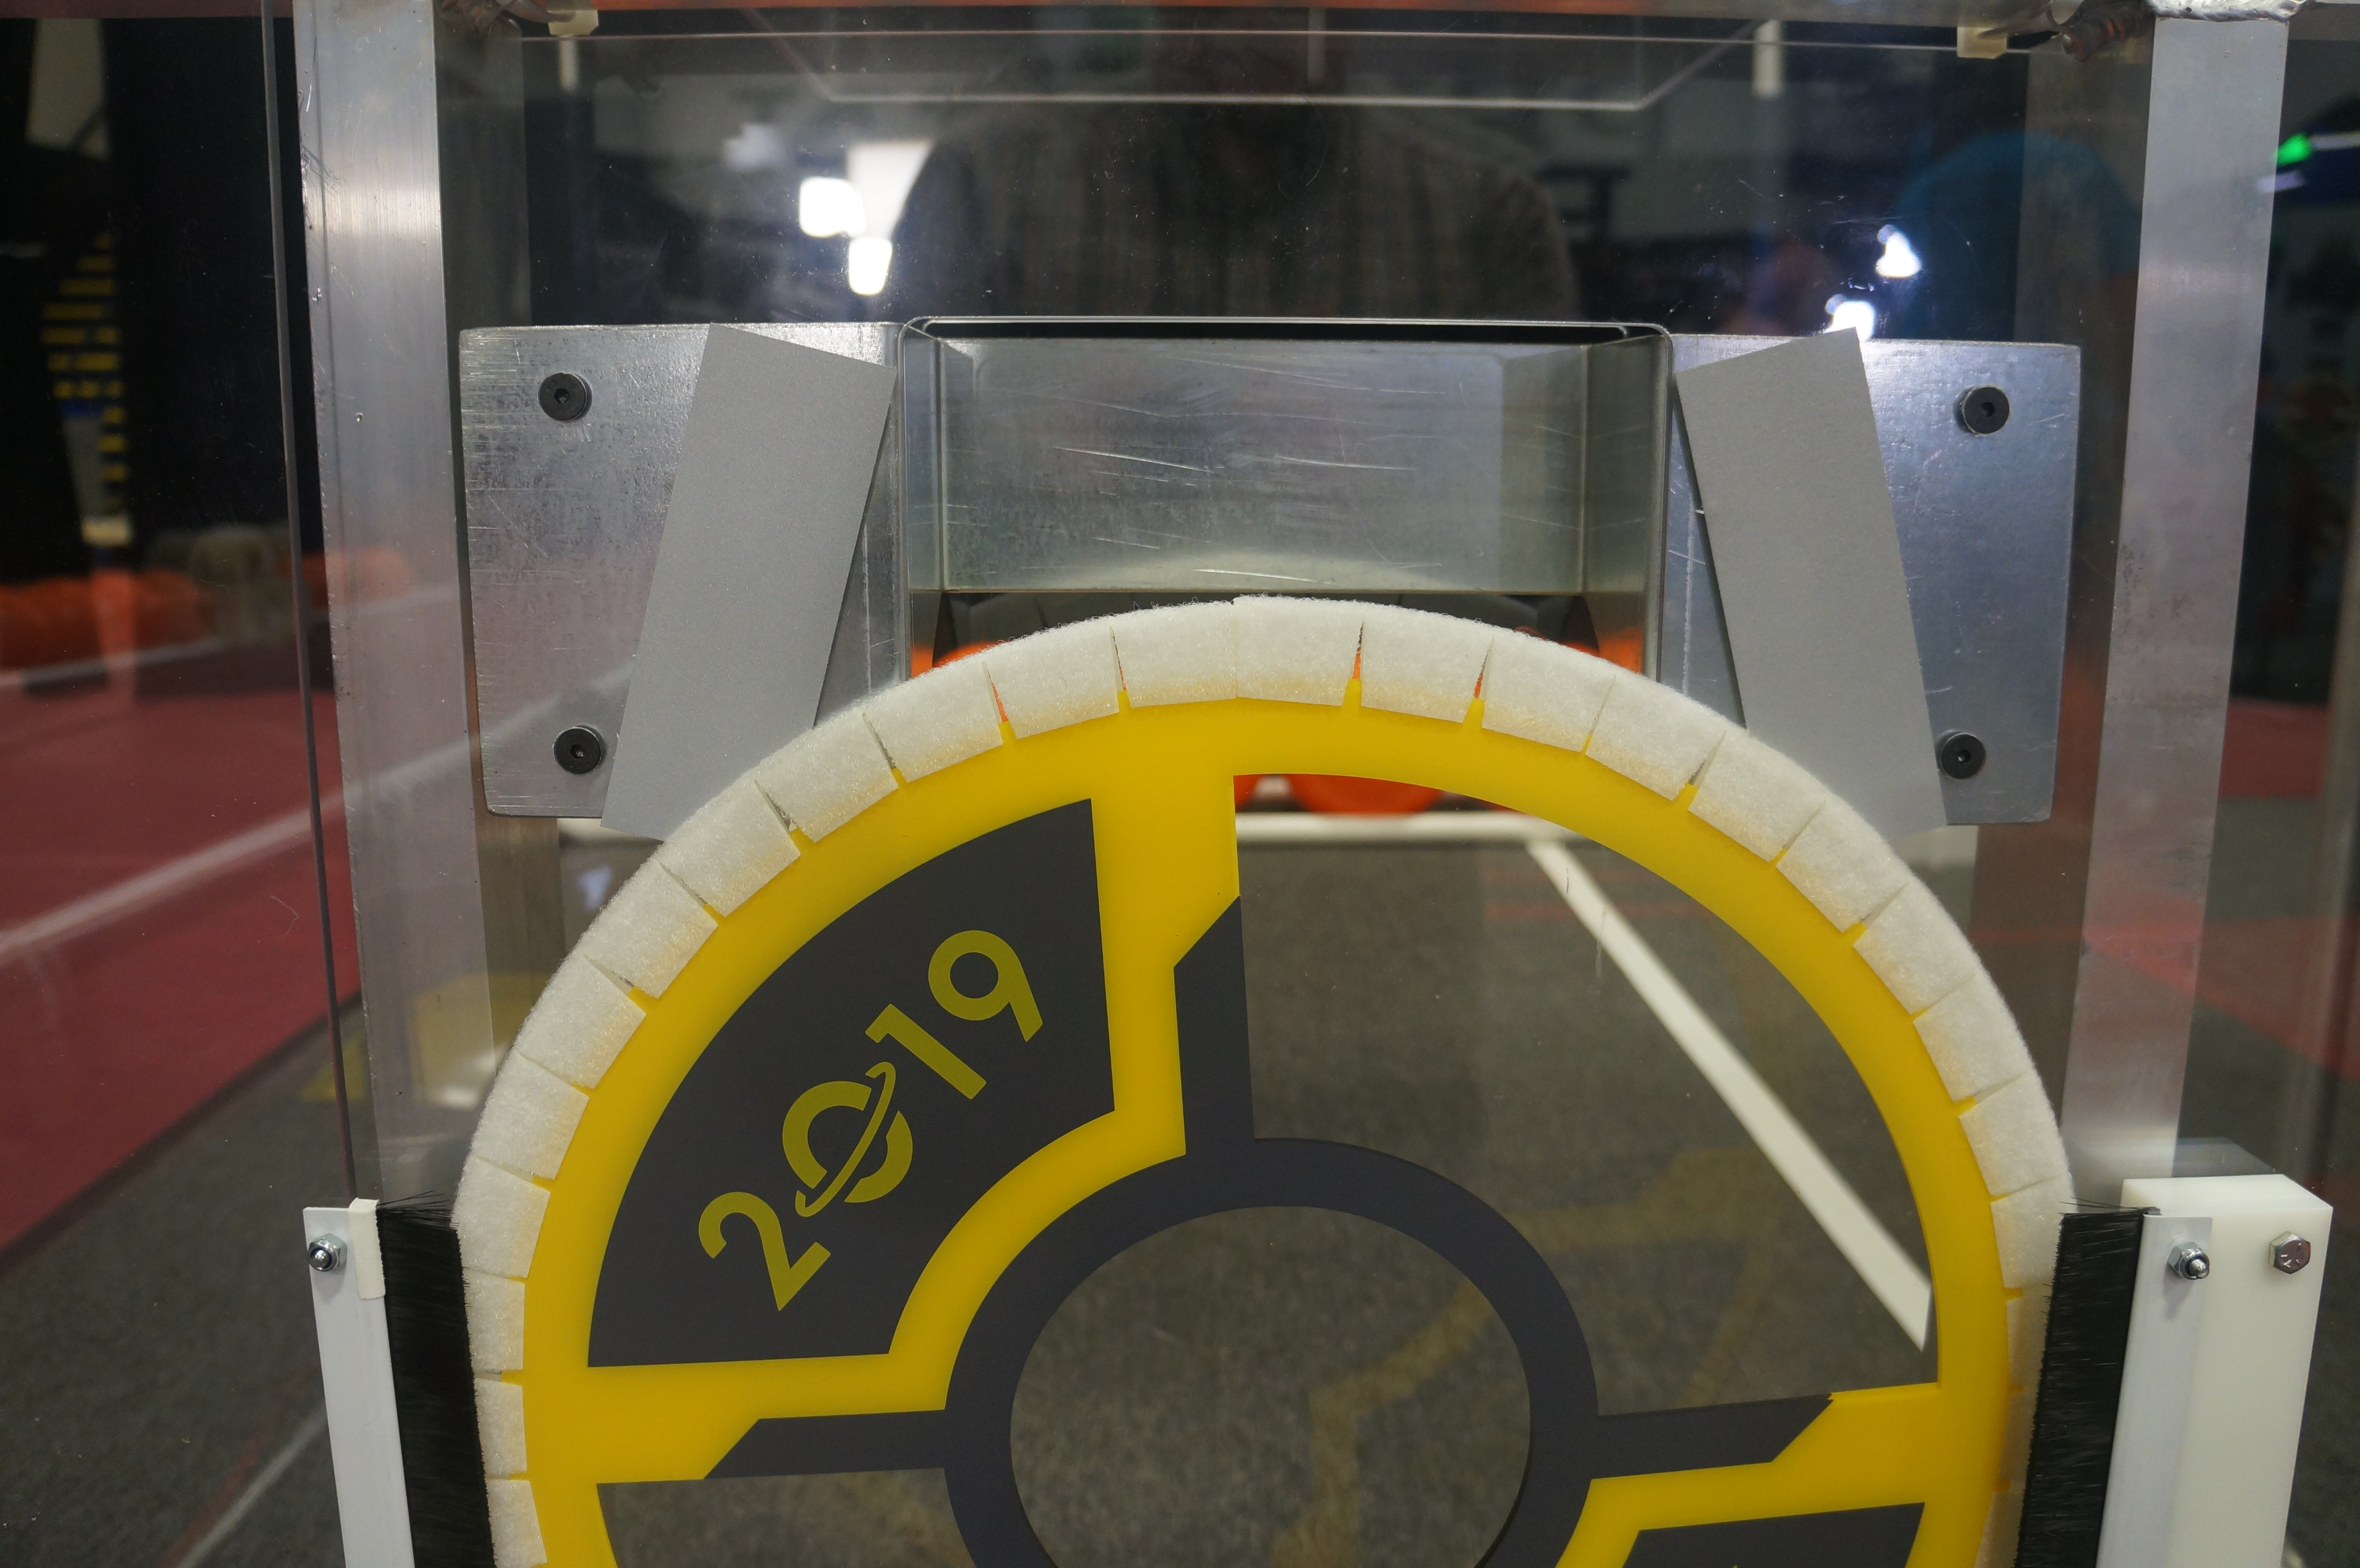Hatch: (429, 595, 2110, 1568)
Tape: (593, 322, 906, 866), (1674, 324, 1958, 864)
